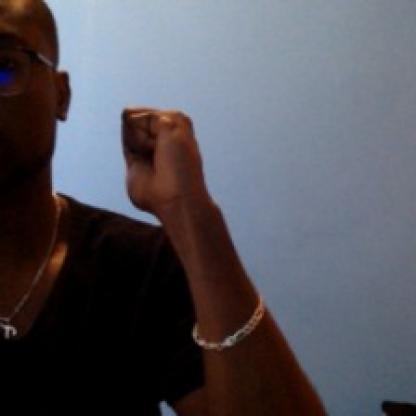BACKWARD: (107, 80, 228, 248)
